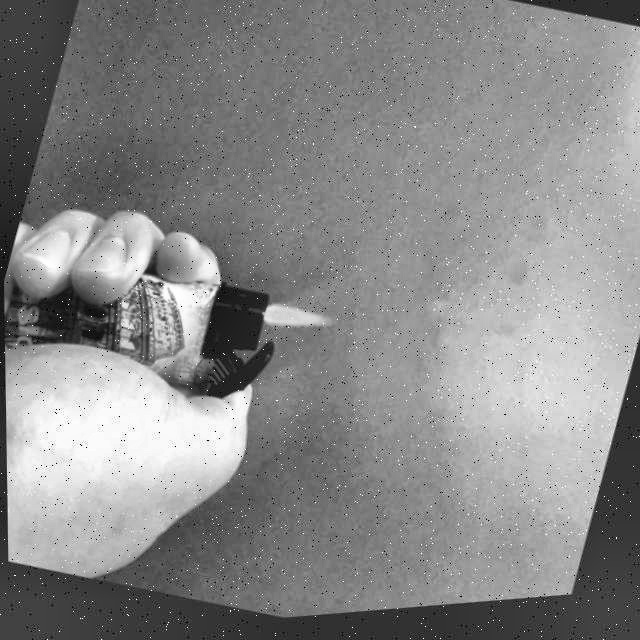Fire: (256, 299, 330, 347)
